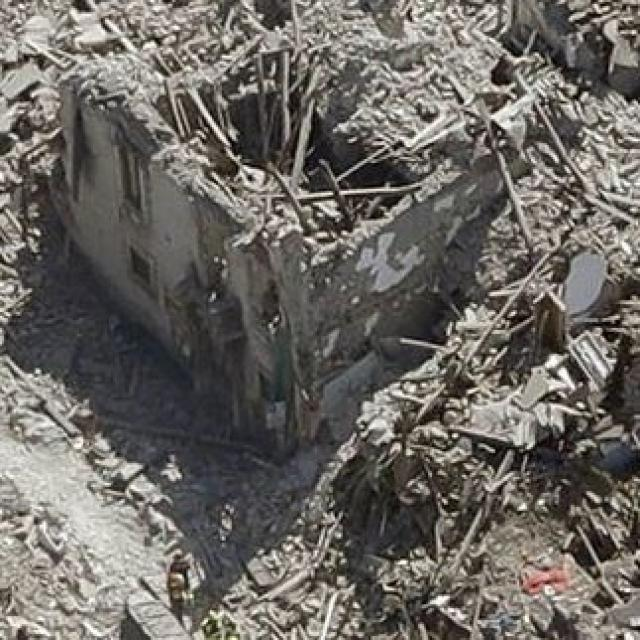collapsed_building: (62, 20, 523, 439)
